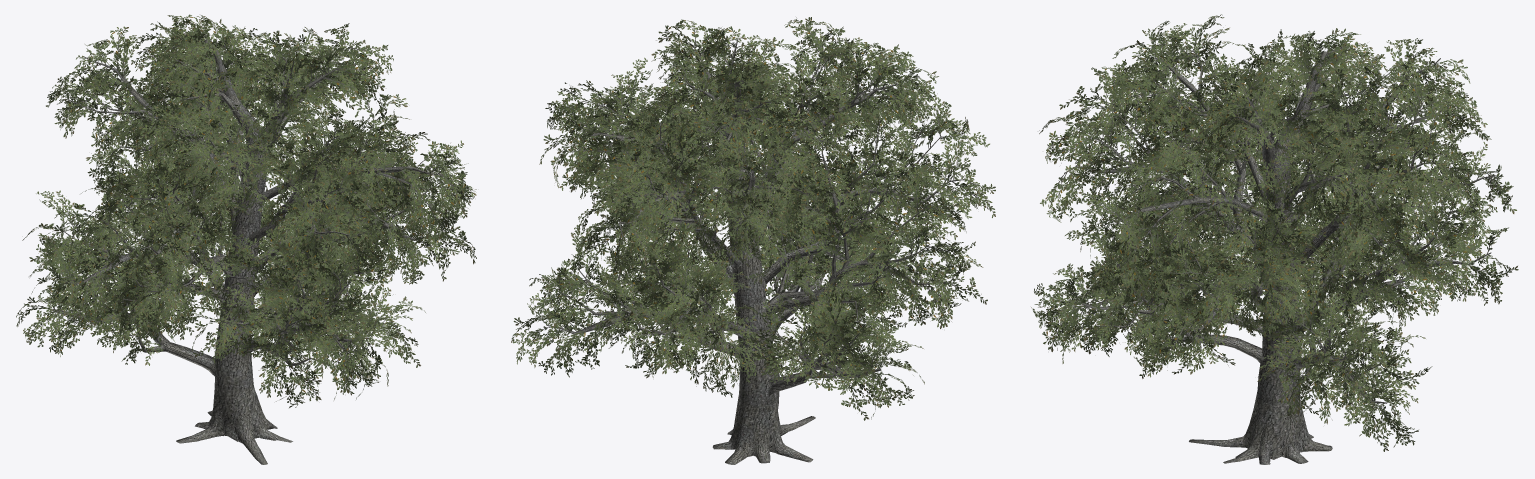
The model's file is tree-oak-15m.glb.
3 renders of one model, left to right at view 1: azimuth 30°, elevation 25°; view 2: azimuth 150°, elevation 25°; view 3: azimuth 270°, elevation 25°, orthographic. The views are drawn at different scales.
Parts seen in each view (by area): view 1: Oak01_LOD0_M_Branch.004_0, Oak01_LOD0_M_Bark.004_0; view 2: Oak01_LOD0_M_Branch.004_0, Oak01_LOD0_M_Bark.004_0; view 3: Oak01_LOD0_M_Branch.004_0, Oak01_LOD0_M_Bark.004_0.
Part boxes in pixels (box(x1,y1,x2,y2)): Oak01_LOD0_M_Branch.004_0: box(16, 14, 476, 407); Oak01_LOD0_M_Bark.004_0: box(52, 37, 442, 464); Oak01_LOD0_M_Branch.004_0: box(511, 17, 995, 420); Oak01_LOD0_M_Bark.004_0: box(546, 39, 964, 464); Oak01_LOD0_M_Branch.004_0: box(1031, 14, 1518, 451); Oak01_LOD0_M_Bark.004_0: box(1064, 49, 1496, 464).
Bounding box in the file's own units: 22.98 × 21.39 × 23.31.
Materials: 2 (2 with a texture image).
